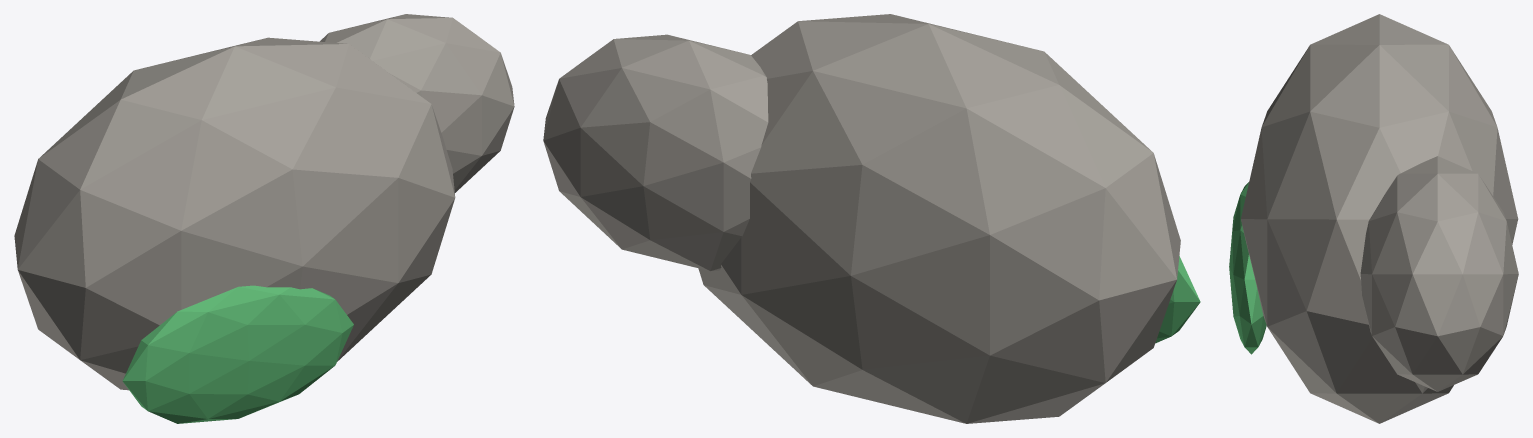
The model's file is mossy_rock_cluster.glb.
3 renders of one model, left to right at view 1: azimuth 30°, elevation 25°; view 2: azimuth 150°, elevation 25°; view 3: azimuth 270°, elevation 25°, orthographic. The views are drawn at different scales.
Parts seen in each view (by area): view 1: rockA, moss, rockB; view 2: rockA, rockB, moss; view 3: rockA, rockB, moss.
Part boxes in pixels (bbox=[...]): rockA: bbox=[14, 37, 455, 390]; moss: bbox=[122, 285, 353, 423]; rockB: bbox=[320, 14, 514, 192]; rockA: bbox=[698, 14, 1180, 423]; rockB: bbox=[543, 34, 768, 271]; moss: bbox=[1155, 256, 1200, 343]; rockA: bbox=[1241, 14, 1518, 423]; rockB: bbox=[1360, 156, 1518, 391]; moss: bbox=[1229, 182, 1266, 354].
Size of the model in its own units: 1.59 by 0.99 by 0.7466.
